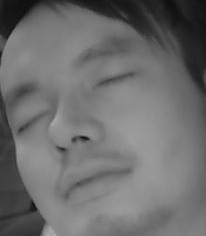blink: (95, 69, 132, 95), (16, 108, 50, 133)
mouth: (56, 159, 132, 208)
